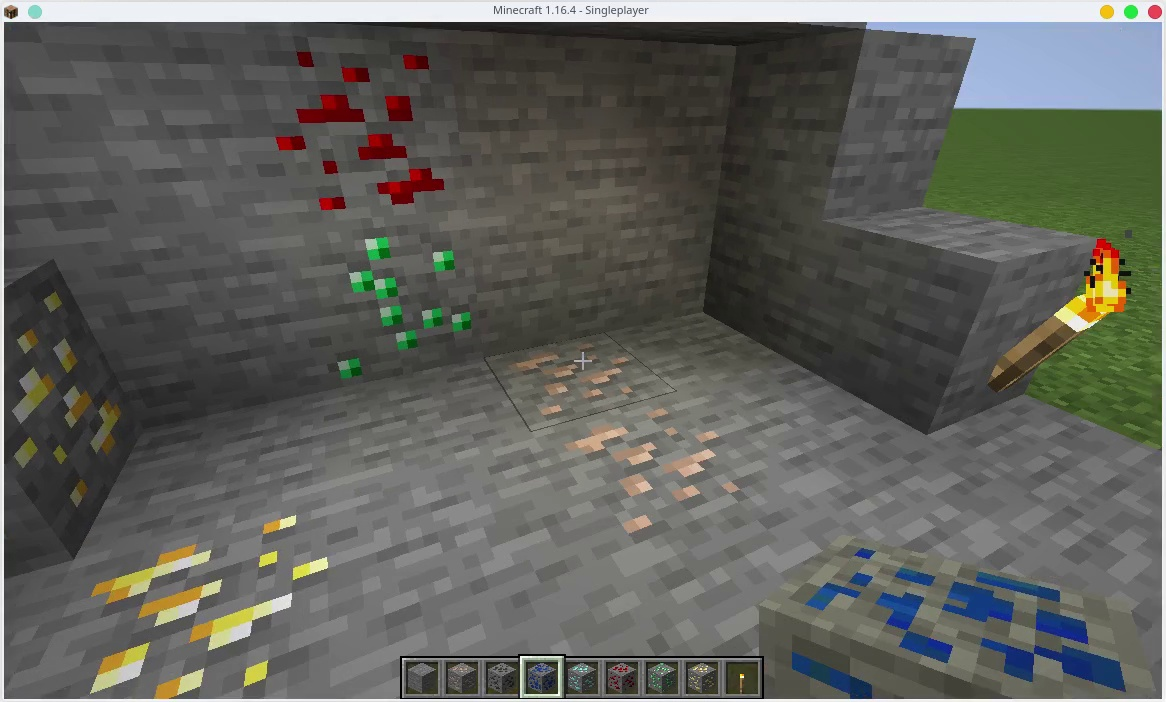gold: (72, 501, 368, 702), (1, 243, 158, 495), (687, 661, 719, 693)
